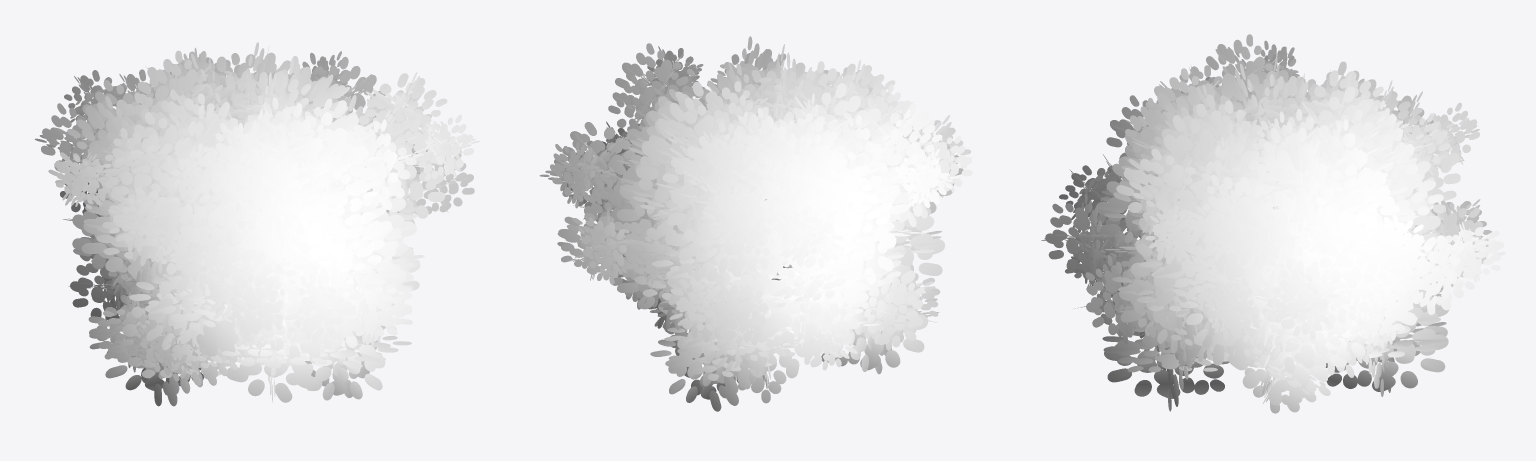
The picture shows the model from 3 angles, left to right: view 1: azimuth 30°, elevation 25°; view 2: azimuth 150°, elevation 25°; view 3: azimuth 270°, elevation 25°; orthographic projection. The views are drawn at different scales.
Parts seen in each view (by area): view 1: Bush_Common; view 2: Bush_Common; view 3: Bush_Common.
Boxes of the visible parts, <box> form: Bush_Common: <box>34,42,479,406</box>; Bush_Common: <box>539,36,973,411</box>; Bush_Common: <box>1041,34,1505,413</box>.
Size of the model in its own units: 1.91 by 1.58 by 1.97.
Materials: 1 (1 with a texture image).
